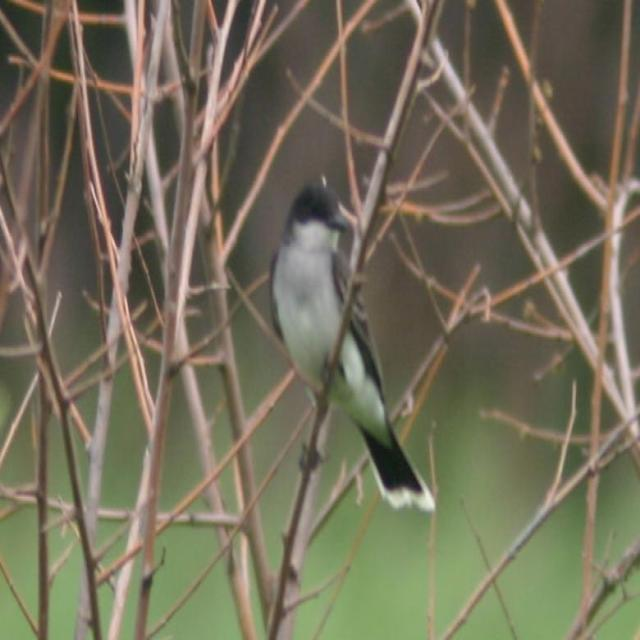bird: (269, 170, 436, 527)
